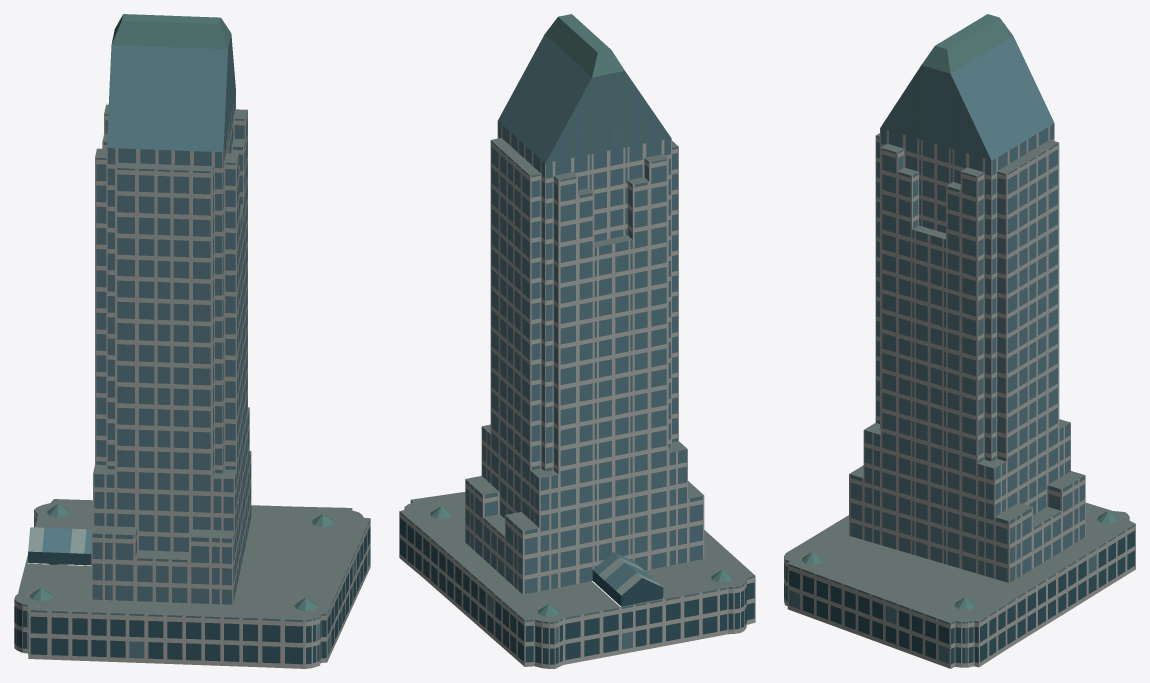
File: tour-1000-de-la-gauchetiere-far.glb
3 renders of one model, left to right at view 1: azimuth 30°, elevation 25°; view 2: azimuth 150°, elevation 25°; view 3: azimuth 270°, elevation 25°, orthographic. The views are drawn at different scales.
Visible parts, largest first — view 1: tour-1000-de-la-gauchetiere-0-glass, tour-1000-de-la-gauchetiere-0-stone, tour-1000-de-la-gauchetiere-0-roof, tour-1000-de-la-gauchetiere-0-lobby, tour-1000-de-la-gauchetiere-0-copper, tour-1000-de-la-gauchetiere-0-glow, tour-1000-de-la-gauchetiere-0-trim; view 2: tour-1000-de-la-gauchetiere-0-glass, tour-1000-de-la-gauchetiere-0-stone, tour-1000-de-la-gauchetiere-0-roof, tour-1000-de-la-gauchetiere-0-lobby, tour-1000-de-la-gauchetiere-0-copper, tour-1000-de-la-gauchetiere-0-glow, tour-1000-de-la-gauchetiere-0-trim; view 3: tour-1000-de-la-gauchetiere-0-glass, tour-1000-de-la-gauchetiere-0-stone, tour-1000-de-la-gauchetiere-0-roof, tour-1000-de-la-gauchetiere-0-lobby, tour-1000-de-la-gauchetiere-0-copper, tour-1000-de-la-gauchetiere-0-glow.
Boxes of the visible parts, x1,y1,x2,y2 form: tour-1000-de-la-gauchetiere-0-glass: (14, 34, 370, 621); tour-1000-de-la-gauchetiere-0-stone: (14, 95, 370, 668); tour-1000-de-la-gauchetiere-0-roof: (14, 104, 370, 620); tour-1000-de-la-gauchetiere-0-lobby: (14, 519, 370, 664); tour-1000-de-la-gauchetiere-0-copper: (29, 14, 335, 610); tour-1000-de-la-gauchetiere-0-glow: (34, 92, 370, 658); tour-1000-de-la-gauchetiere-0-trim: (28, 527, 86, 553); tour-1000-de-la-gauchetiere-0-glass: (400, 34, 754, 623); tour-1000-de-la-gauchetiere-0-stone: (399, 121, 755, 668); tour-1000-de-la-gauchetiere-0-roof: (399, 138, 755, 622); tour-1000-de-la-gauchetiere-0-lobby: (400, 518, 754, 664); tour-1000-de-la-gauchetiere-0-copper: (430, 14, 732, 616); tour-1000-de-la-gauchetiere-0-glow: (455, 127, 717, 649); tour-1000-de-la-gauchetiere-0-trim: (599, 557, 661, 595); tour-1000-de-la-gauchetiere-0-glass: (784, 36, 1134, 624); tour-1000-de-la-gauchetiere-0-stone: (784, 123, 1135, 668); tour-1000-de-la-gauchetiere-0-roof: (784, 133, 1135, 623); tour-1000-de-la-gauchetiere-0-lobby: (784, 530, 1134, 664); tour-1000-de-la-gauchetiere-0-copper: (801, 14, 1118, 609); tour-1000-de-la-gauchetiere-0-glow: (784, 115, 1096, 663).
Bounding box in the file's own units: 128 × 205 × 119.
